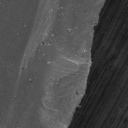corrosion: (40, 39, 47, 46), (74, 90, 80, 95)
